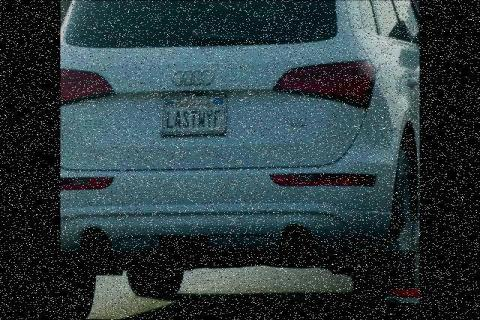LicensePlate: (154, 88, 234, 140)
